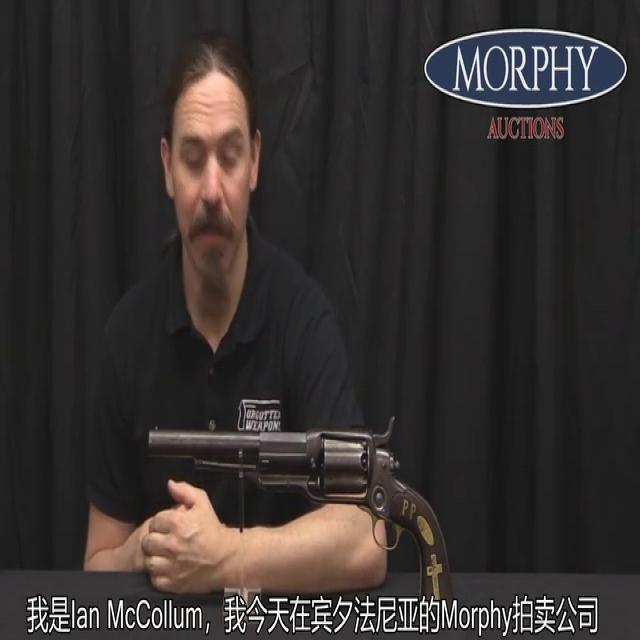gun-knife-thesis - v11 Yolov5 augmented: (133, 396, 456, 619)
